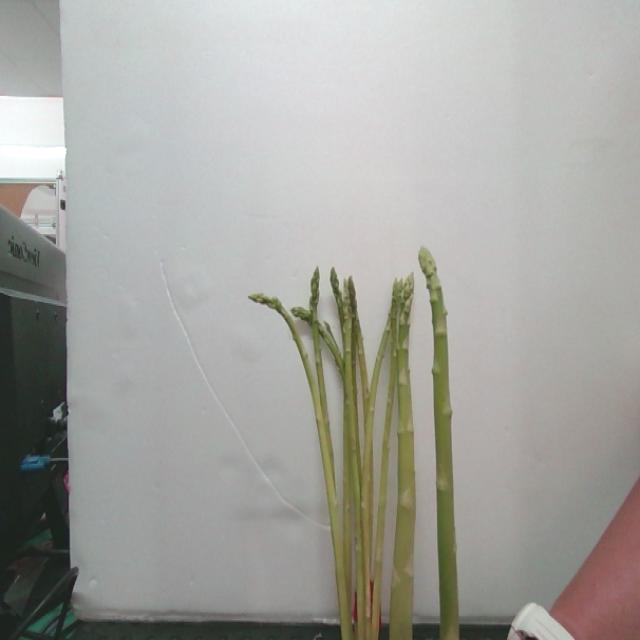aspargus: (410, 248, 458, 640)
